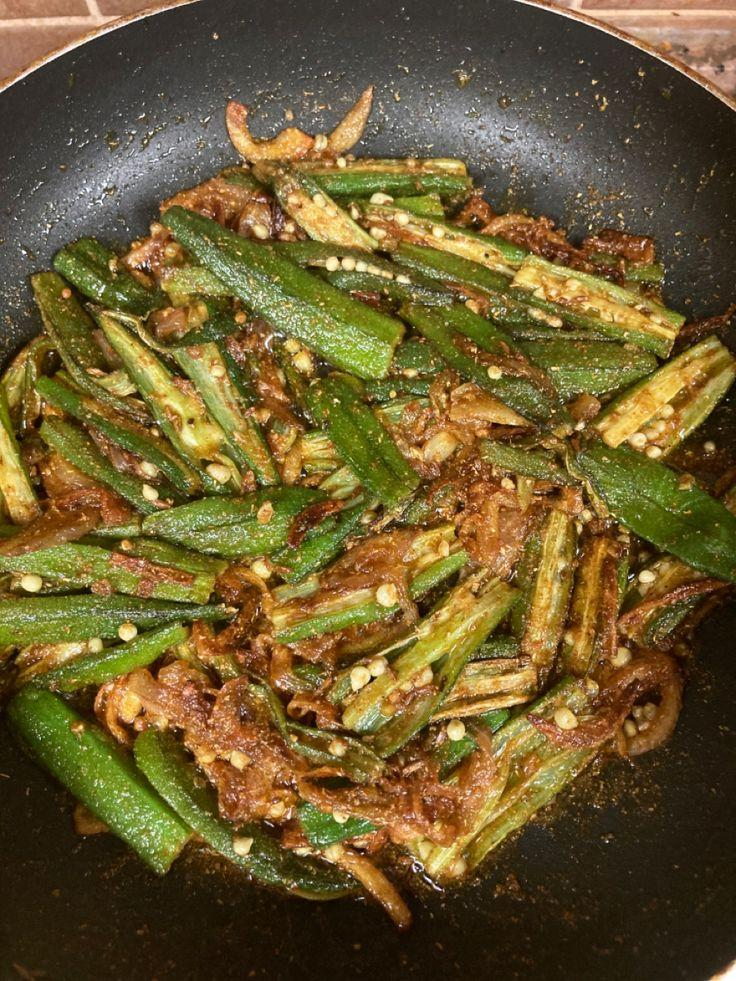bhindi: (4, 253, 608, 862)
